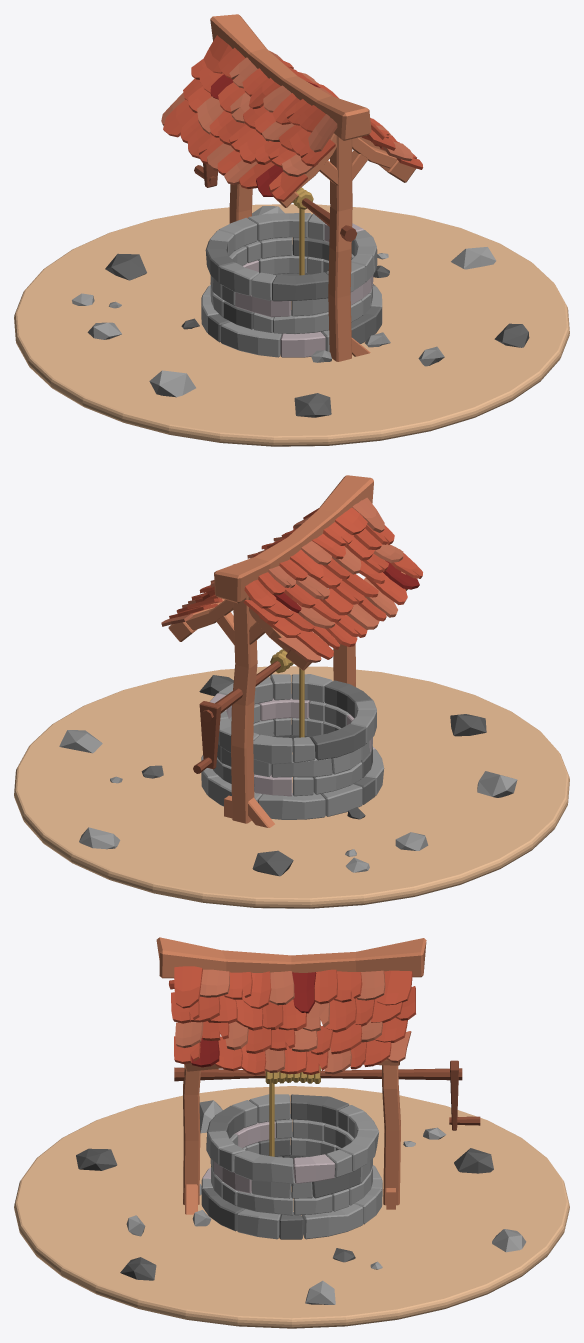
Rendered from Well_CCA.fbx.
The picture shows the model from 3 angles, top to bottom: view 1: azimuth 30°, elevation 25°; view 2: azimuth 150°, elevation 25°; view 3: azimuth 270°, elevation 25°; orthographic projection.
Parts seen in each view (by area): view 1: Circle, Cube, Plane.010, Cube.020, Icosphere.014, Cylinder.001, Cylinder.003; view 2: Circle, Cube, Plane.010, Cube.020, Icosphere.014, Cylinder.001, Cylinder.003; view 3: Circle, Plane.010, Cube, Cube.020, Icosphere.014, Cylinder.001, Cylinder.003.
Part boxes in pixels (left/top/right/bottom): Circle: left=14, top=204, right=569, bottom=446; Cube: left=201, top=213, right=382, bottom=357; Plane.010: left=161, top=35, right=423, bottom=201; Cube.020: left=210, top=14, right=416, bottom=361; Icosphere.014: left=72, top=206, right=529, bottom=417; Cylinder.001: left=194, top=163, right=357, bottom=241; Cylinder.003: left=292, top=187, right=313, bottom=275; Circle: left=14, top=666, right=569, bottom=908; Cube: left=201, top=674, right=384, bottom=819; Plane.010: left=161, top=497, right=422, bottom=662; Cube.020: left=168, top=475, right=407, bottom=827; Icosphere.014: left=59, top=675, right=517, bottom=876; Cylinder.001: left=193, top=661, right=280, bottom=773; Cylinder.003: left=270, top=649, right=304, bottom=737; Circle: left=14, top=1086, right=569, bottom=1328; Plane.010: left=169, top=966, right=415, bottom=1075; Cube: left=201, top=1094, right=382, bottom=1239; Cube.020: left=156, top=937, right=426, bottom=1214; Icosphere.014: left=76, top=1100, right=526, bottom=1304; Cylinder.001: left=174, top=1060, right=480, bottom=1130; Cylinder.003: left=265, top=1066, right=320, bottom=1156.
Bounding box in the file's own units: 5282 × 2819 × 5282.
